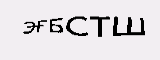Ғ: (35, 15, 48, 40)
